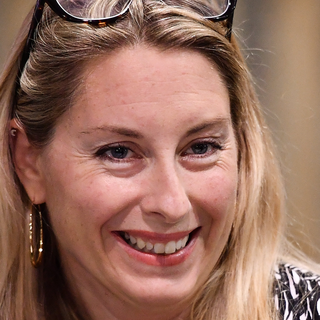eye: (91, 140, 144, 166), (178, 135, 225, 163)
